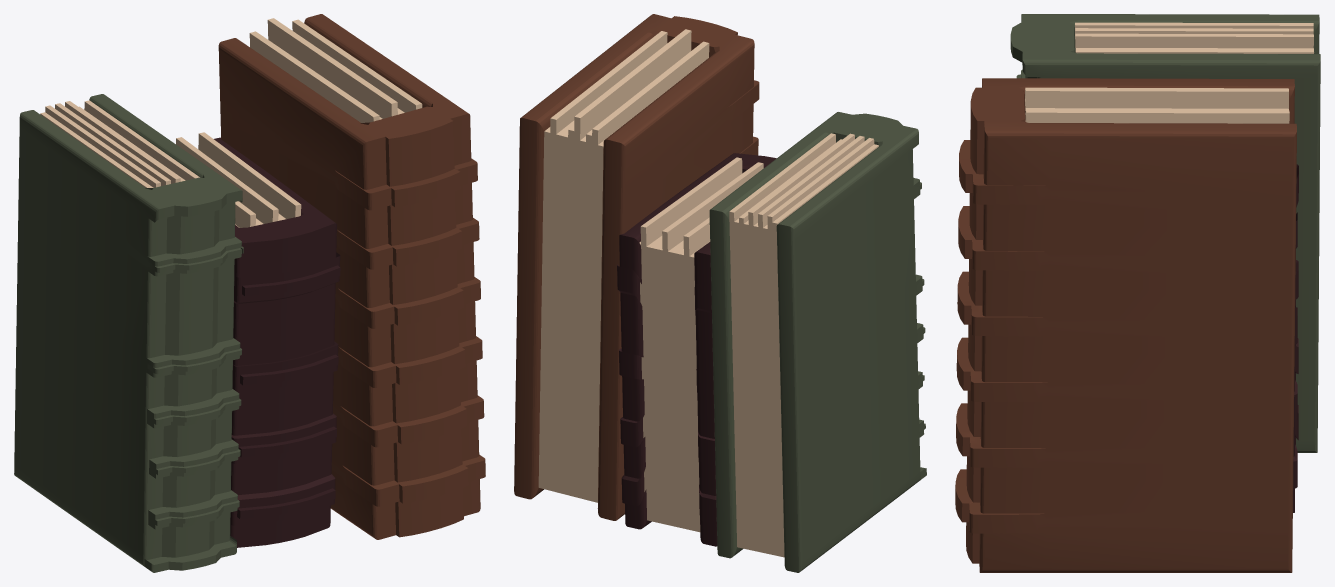
The model's file is BooksLineupThree.fbx.
3 renders of one model, left to right at view 1: azimuth 30°, elevation 25°; view 2: azimuth 150°, elevation 25°; view 3: azimuth 270°, elevation 25°, orthographic. The views are drawn at different scales.
Parts seen in each view (by area): view 1: jOINEDBooks3; view 2: jOINEDBooks3; view 3: jOINEDBooks3.
Part boxes in pixels (left/top/right/bottom): jOINEDBooks3: left=14, top=14, right=485, bottom=572; jOINEDBooks3: left=514, top=14, right=926, bottom=572; jOINEDBooks3: left=955, top=14, right=1320, bottom=572.
Bounding box in the file's own units: 29.41 × 36.76 × 26.75.
